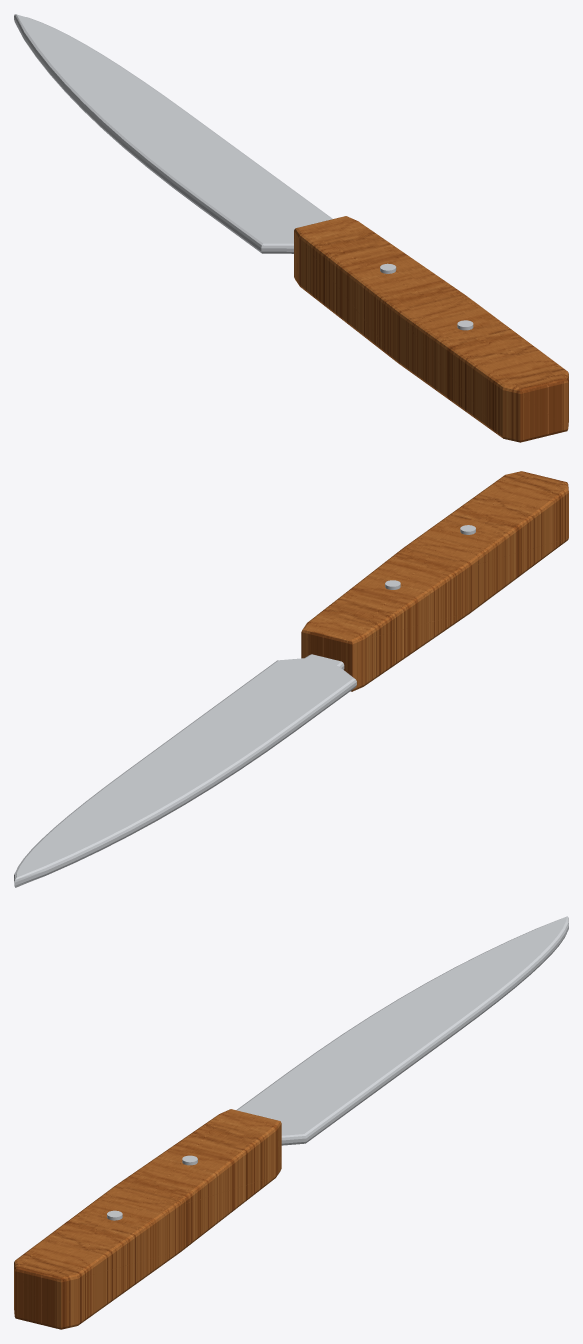
File: CUB-40.glb
3 views of the same model, one above another, from view 1: azimuth 30°, elevation 25°; view 2: azimuth 150°, elevation 25°; view 3: azimuth 330°, elevation 25° (orthographic). The views are drawn at different scales.
Size of the model in its own units: 0.0258 by 0.017 by 0.2922.
4 materials, 1 textured.
